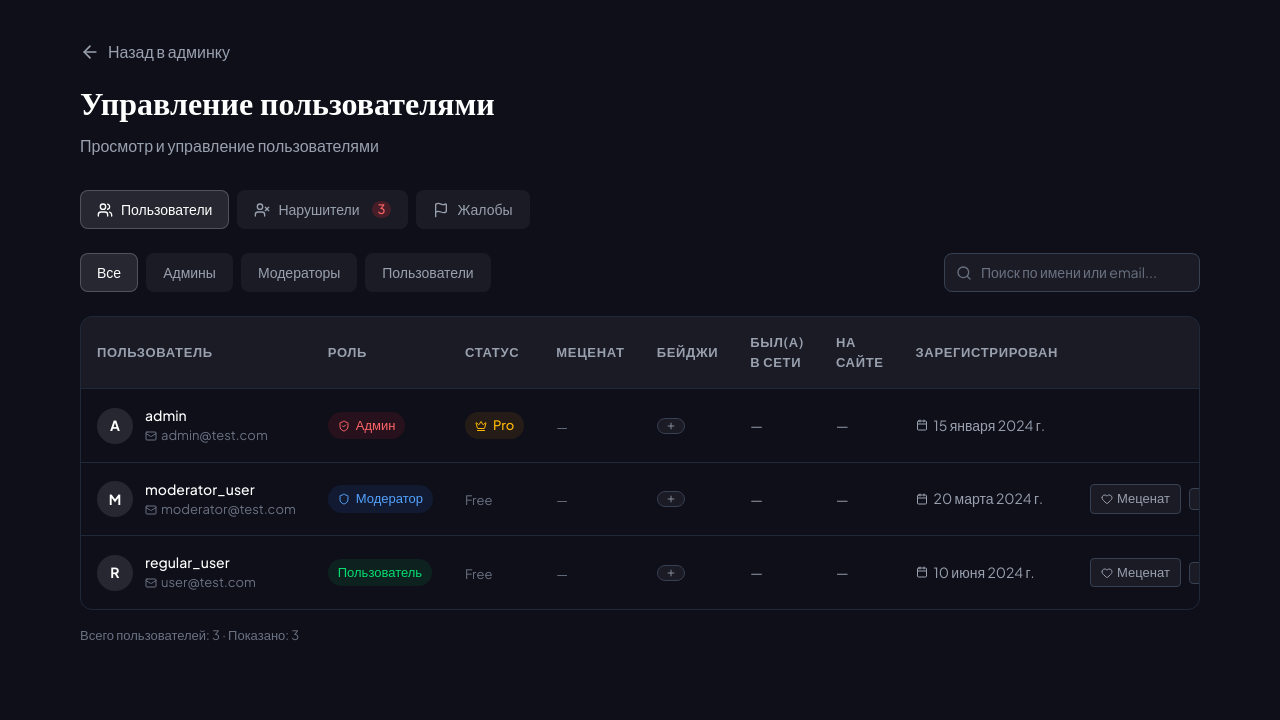
AdminUsersPage › должен фильтровать по ролям
Expected: the link "admin" is shown, [145,406,187,424]
What coordinates should you click on to do the following:
click the button "Модераторы"
I would click on:
 (299, 273)
Its box is [241,253,357,292].
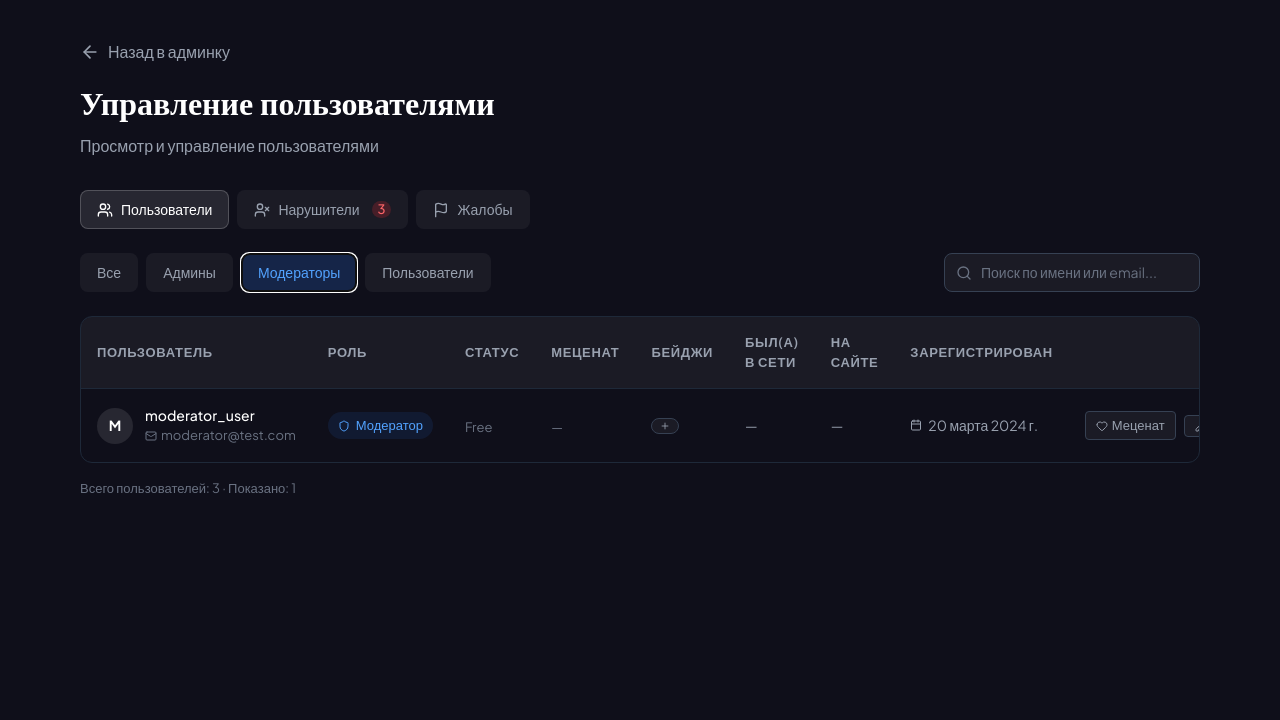
Expected: the link "moderator_user" is shown, [145,406,255,424]
Result: the link "admin" is gone
